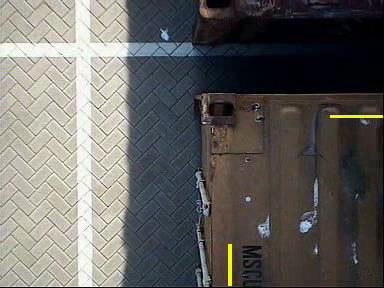groundmarker_2: (135, 72, 185, 111), (132, 249, 182, 288)
